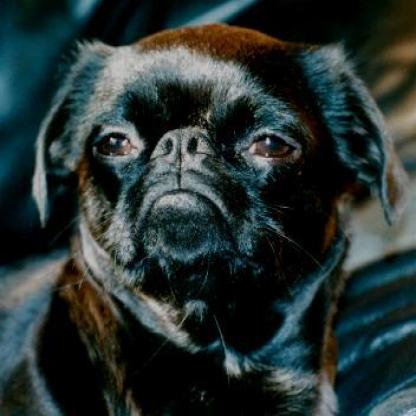Brabancon_griffon: (0, 21, 403, 413)
